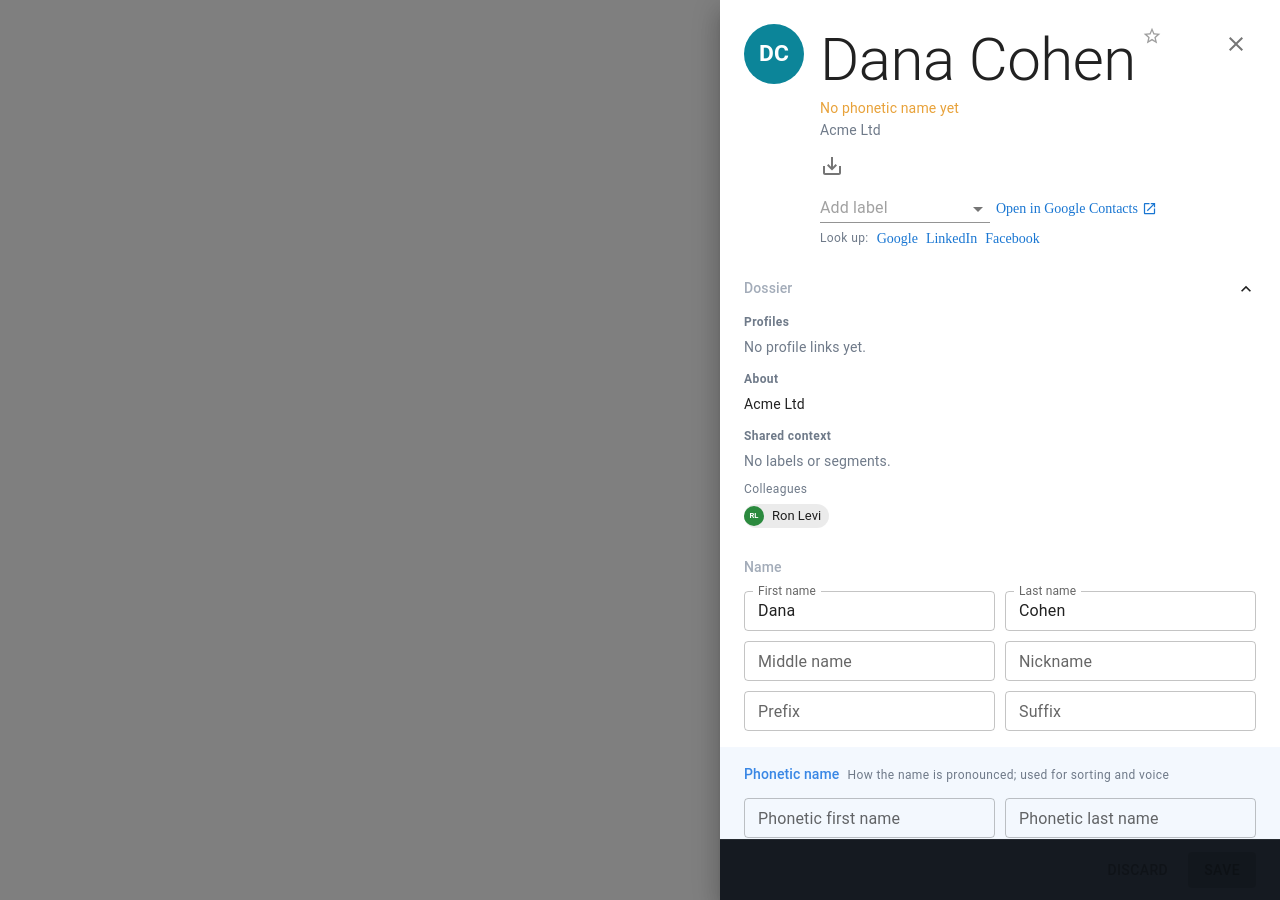
the contact card › shows the colleague opened from the dossier: title, details and one dossier
Expected: the field showing "Dana" is shown, [744,590,995,630]
Click the text "Ron Levi".
click(797, 516)  # box [772,508,821,523]
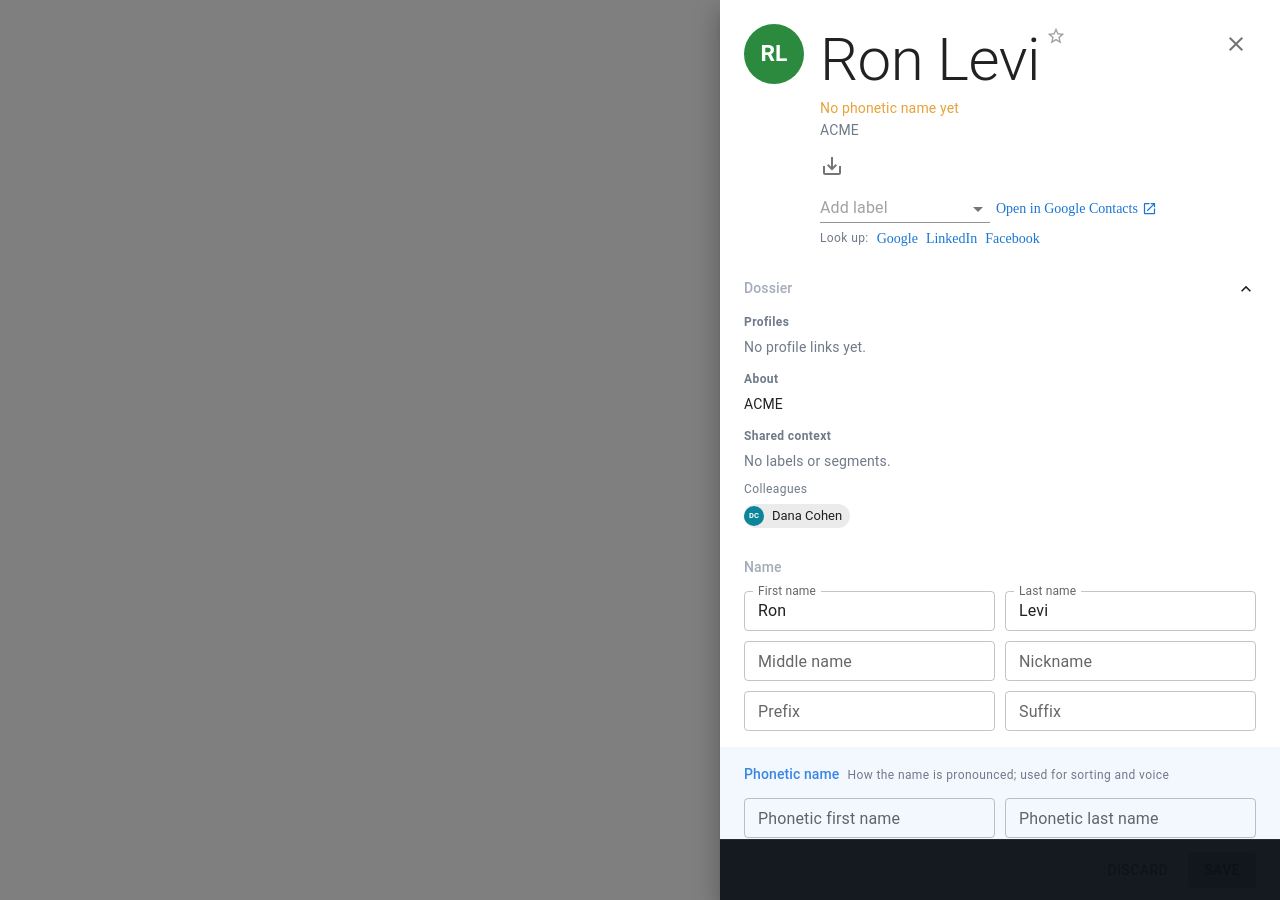
Expected: the number of elements "Dossier" is 1, [744,265,1256,540]
Now the heading "Ron Levi" is shown, box [820,24,1040,96]
Now the field showing "Ron" is shown, box [744,590,995,630]
